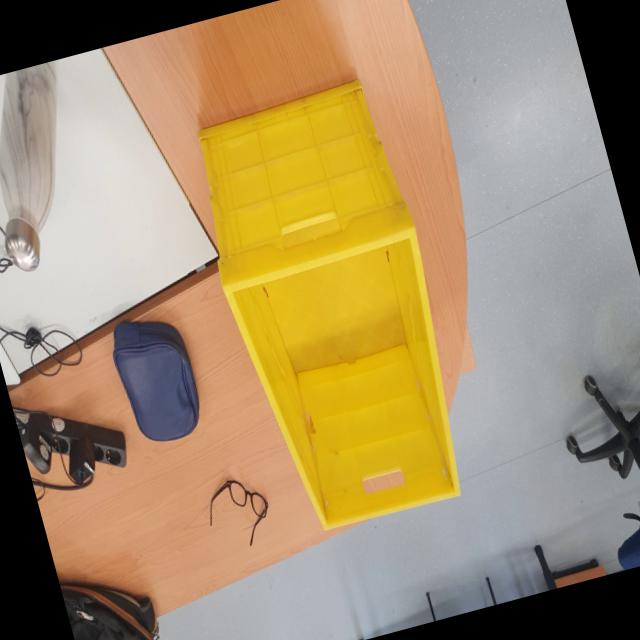box: (164, 40, 495, 569)
